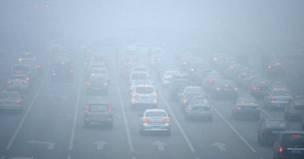car: (138, 109, 173, 136), (256, 118, 289, 146), (272, 130, 304, 158), (84, 100, 114, 129), (129, 82, 159, 109), (183, 96, 214, 121), (231, 96, 261, 120), (176, 85, 205, 108), (264, 88, 293, 110), (1, 89, 26, 112), (17, 55, 41, 77), (214, 79, 239, 99), (264, 59, 286, 81), (201, 70, 224, 91), (168, 78, 192, 98), (85, 75, 110, 94), (284, 98, 304, 121), (128, 78, 153, 96), (7, 74, 32, 92), (52, 60, 74, 80), (128, 70, 151, 89), (13, 63, 34, 83), (250, 78, 271, 97), (161, 69, 181, 88), (87, 66, 108, 82), (87, 61, 107, 77), (131, 66, 150, 80)
